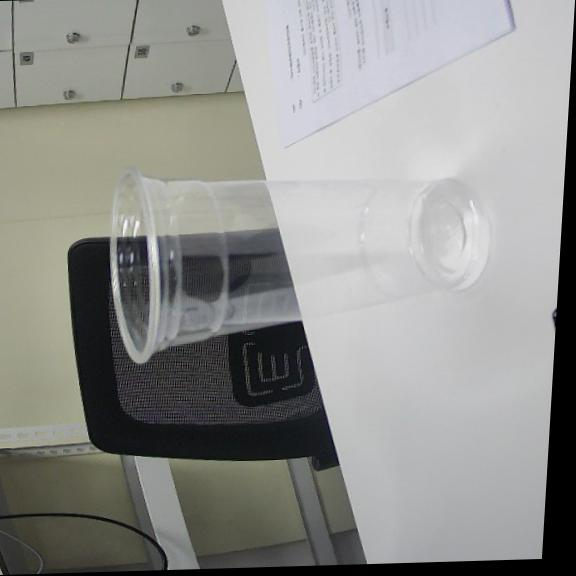Plastik: (111, 167, 489, 362)
